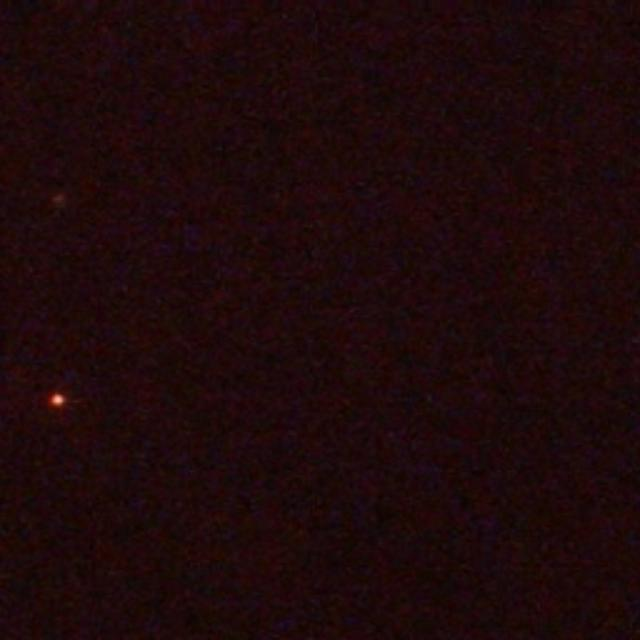Fragment: (48, 388, 68, 408)
